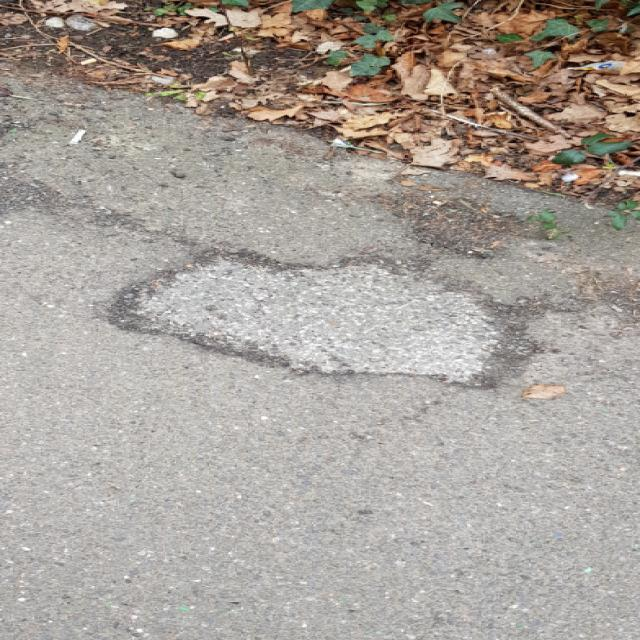Pothole: (104, 244, 537, 396)
